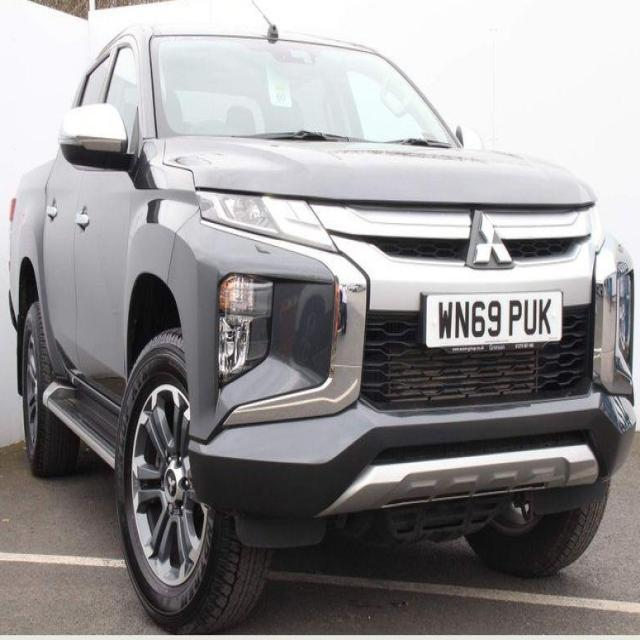CMT: (13, 23, 632, 606)
